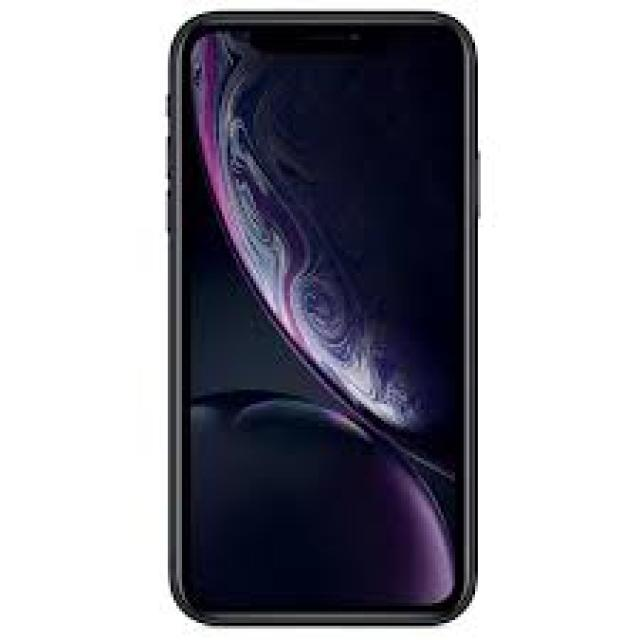phone: (158, 3, 490, 633)
